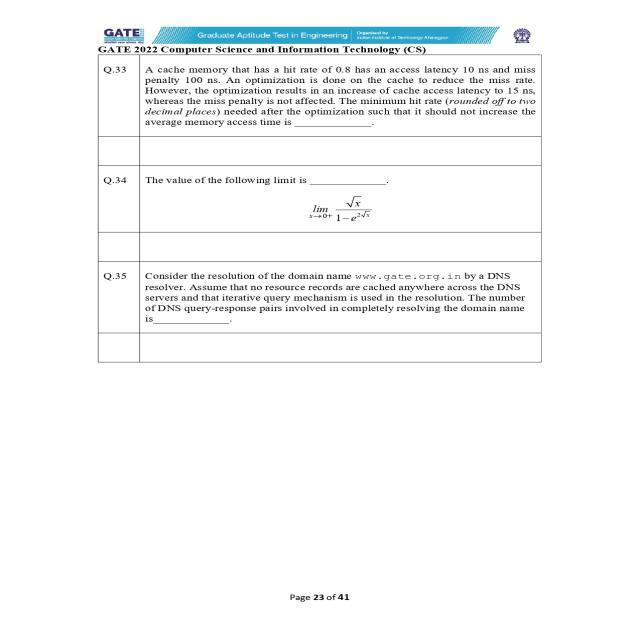Question_Answer_Block: (99, 55, 541, 136), (98, 260, 541, 332), (98, 165, 542, 231)
Question_Block: (99, 54, 542, 136), (99, 260, 542, 332), (98, 166, 542, 232)
Question_Paper_Area: (98, 54, 542, 333)
